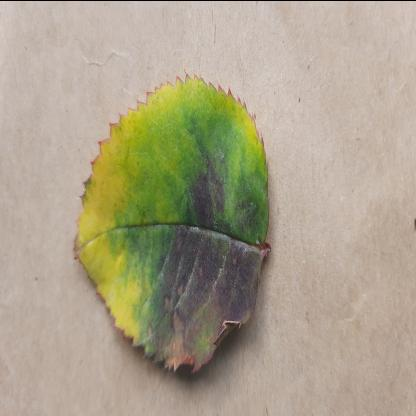downy-mildew: (72, 71, 268, 391)
